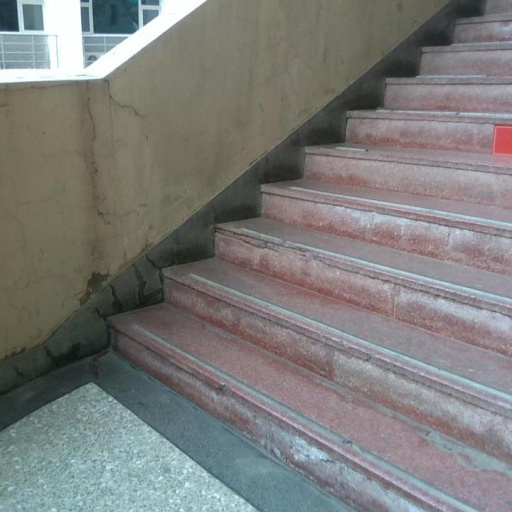Stairs: (112, 0, 512, 512)
